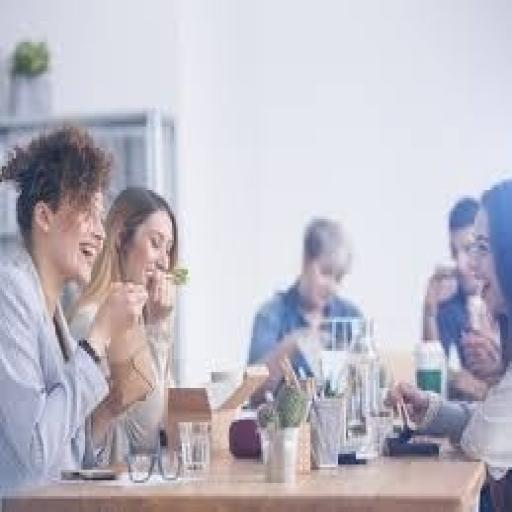eating: (0, 122, 164, 510), (382, 174, 510, 510), (65, 182, 182, 467)
